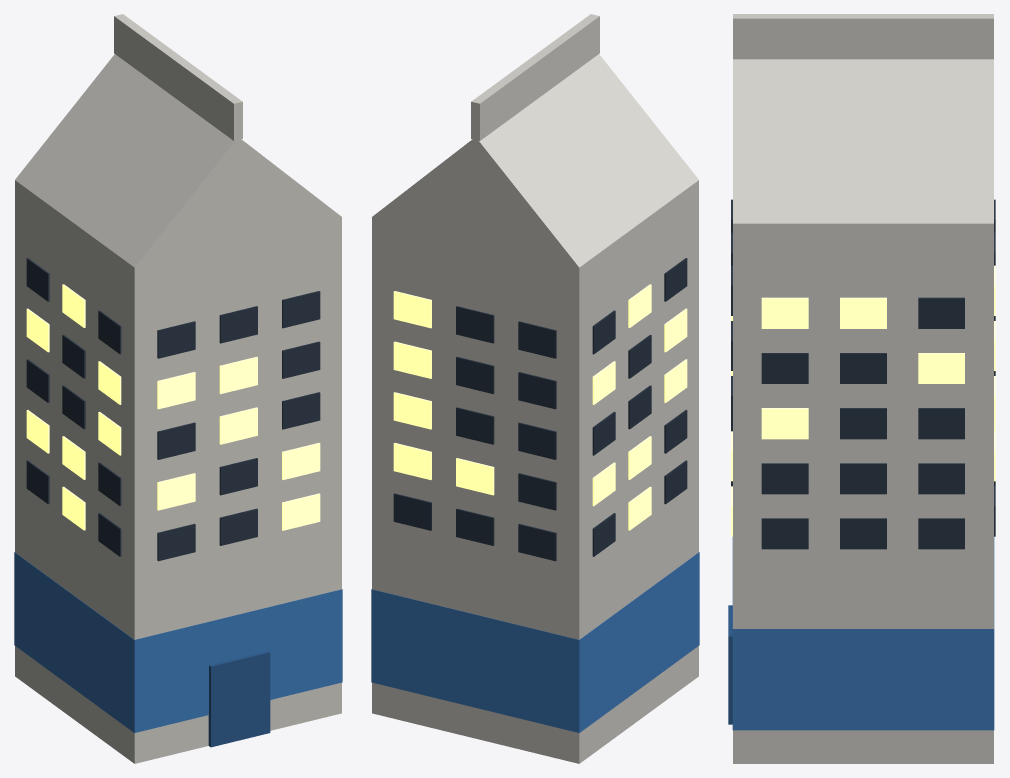
The model's file is building_carton.glb.
The picture shows the model from 3 angles, left to right: view 1: azimuth 30°, elevation 25°; view 2: azimuth 150°, elevation 25°; view 3: azimuth 270°, elevation 25°; orthographic projection. The views are drawn at different scales.
Parts seen in each view (by area): view 1: building_carton, group_2, group_50; view 2: building_carton, group_18, group_50; view 3: building_carton, group_34, group_2, group_18.
Part boxes in pixels (x1,y1,x2,y2): building_carton: (14,14,342,763); group_2: (157,291,320,561); group_50: (26,258,121,556); building_carton: (371,14,699,763); group_18: (393,291,556,561); group_50: (592,258,687,556); building_carton: (728,14,994,763); group_34: (761,297,964,549); group_2: (731,199,732,536); group_18: (994,199,995,536).
Bounding box in the file's own units: 7.1 × 20.5 × 7.18.
